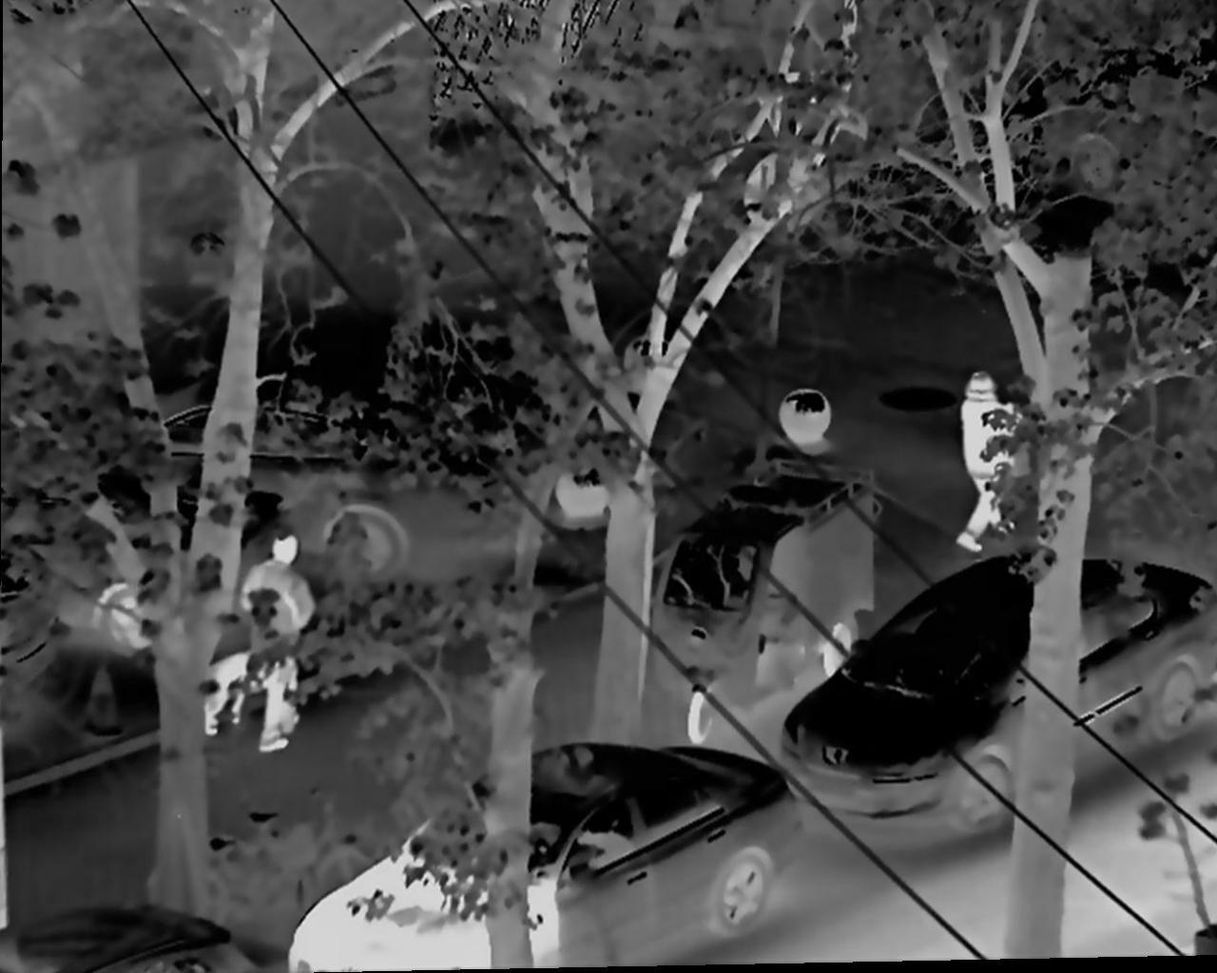person: (237, 527, 319, 761), (956, 362, 1031, 553)
